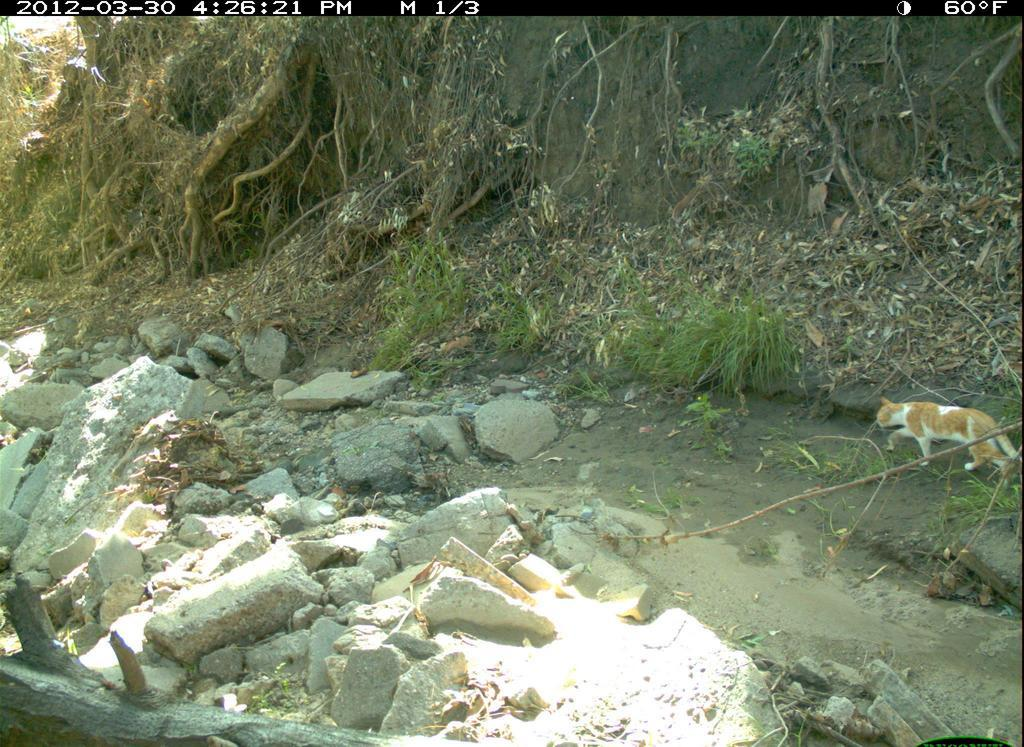cat: (872, 385, 1022, 482)
